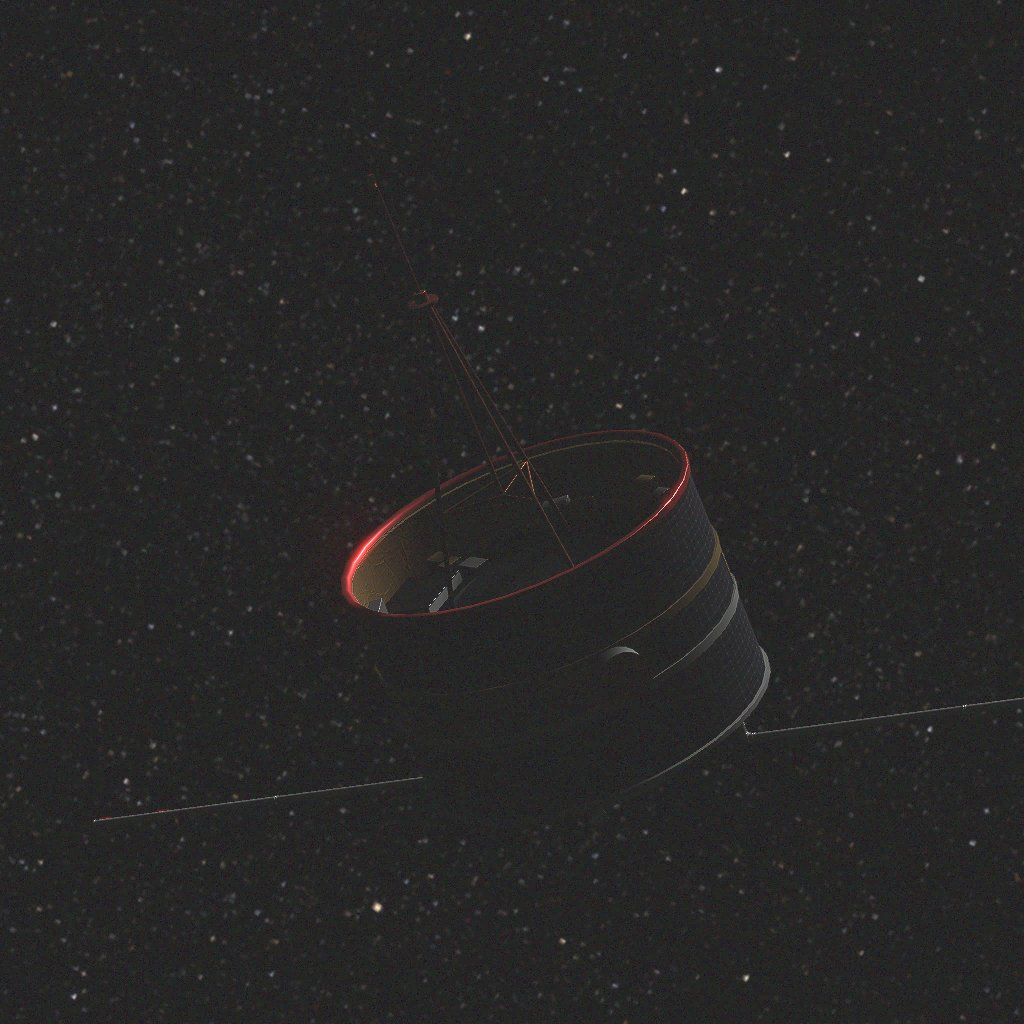double_star: (93, 174, 1024, 828)
